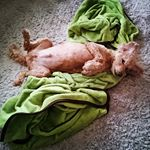puppy: (4, 26, 145, 92)
